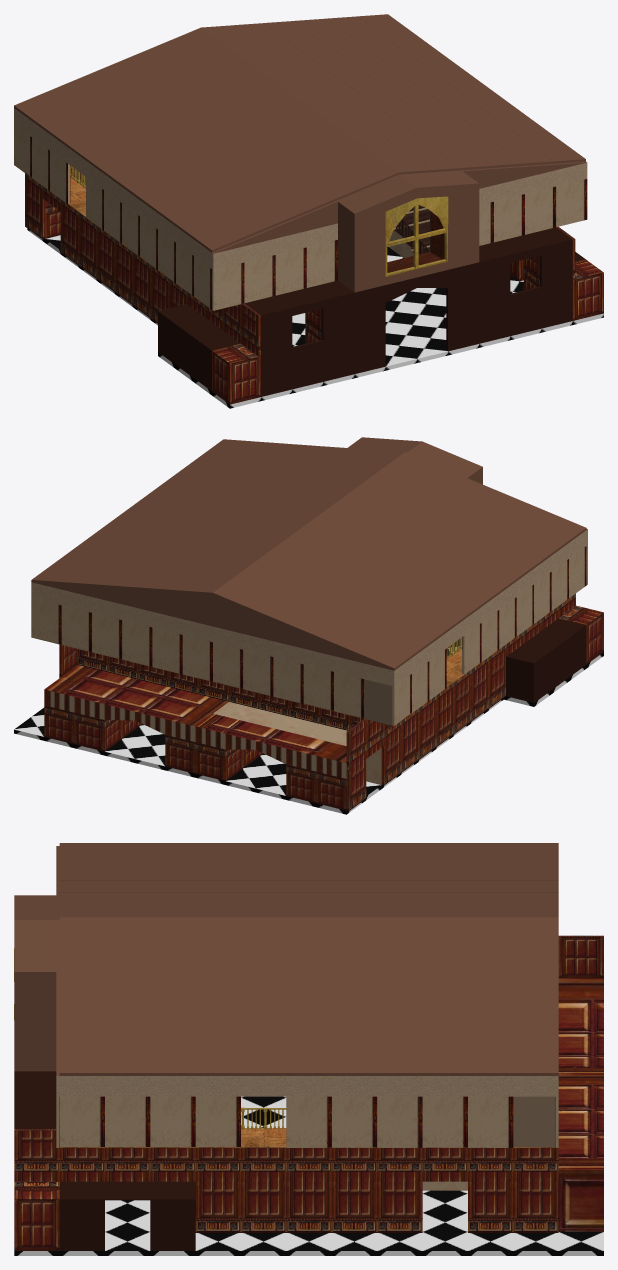
The model's file is HallMain.fbx.
3 views of the same model, one above another, from view 1: azimuth 30°, elevation 25°; view 2: azimuth 150°, elevation 25°; view 3: azimuth 270°, elevation 25° (orthographic). The views are drawn at different scales.
Parts seen in each view (by area): view 1: HallRoofLeft, HallRoofRight, HallWallF1WindowEntrance, HallWallB0WindowLeft, HallWallB0WindowRight, HallFloorTiles, HallWallEntrance, HallWallF1Front, HallWallF1Left_1, HallWallF1Front.001, HallWallB0Left, HallWallB0BreakLeft (+13 smaller); view 2: HallRoofLeft, HallRoofRight, HallWallF1Back_2, HallWallB0TunnelRight.002, HallWallB0TunnelLeft, HallWallF3RooftopBack, HallWallF2Back_2, HallFloorTiles, HallWallB0Left, HallWallF1Left_1, HallWallB0BreakLeft, HallWallB1Back (+10 smaller); view 3: HallRoofRight, HallRoofLeft, HallFloorTiles, HallWallB1Right, HallWallB0Right, HallWallF1Right_2, HallWallF2Right_2, HallWallF1Right_2.001, HallWallF1WindowEntrance, HallWallB0BreakRight, HallWallB0TunnelRight.002, HallWallB1Right.001 (+8 smaller).
Boxes of the visible parts, left/top/right/bottom form: HallRoofLeft: left=14, top=27, right=398, bottom=252; HallRoofRight: left=201, top=14, right=585, bottom=174; HallWallF1WindowEntrance: left=337, top=170, right=479, bottom=292; HallWallB0WindowLeft: left=245, top=280, right=354, bottom=396; HallWallB0WindowRight: left=479, top=227, right=572, bottom=343; HallFloorTiles: left=27, top=228, right=603, bottom=400; HallWallEntrance: left=354, top=262, right=479, bottom=373; HallWallF1Front: left=212, top=240, right=337, bottom=310; HallWallF1Left_1: left=86, top=177, right=211, bottom=309; HallWallF1Front.001: left=479, top=179, right=587, bottom=245; HallWallB0Left: left=60, top=212, right=186, bottom=323; HallWallB0BreakLeft: left=158, top=304, right=240, bottom=390; HallRoofLeft: left=213, top=452, right=586, bottom=670; HallRoofRight: left=31, top=439, right=404, bottom=594; HallWallF1Back_2: left=31, top=598, right=364, bottom=718; HallWallB0TunnelRight.002: left=44, top=677, right=212, bottom=773; HallWallB0TunnelLeft: left=195, top=713, right=346, bottom=810; HallWallF3RooftopBack: left=32, top=582, right=393, bottom=670; HallWallF2Back_2: left=31, top=583, right=395, bottom=686; HallFloorTiles: left=14, top=639, right=503, bottom=814; HallWallB0Left: left=381, top=657, right=505, bottom=785; HallWallF1Left_1: left=462, top=546, right=586, bottom=674; HallWallB0BreakLeft: left=506, top=618, right=586, bottom=702; HallWallB1Back: left=78, top=649, right=363, bottom=730; HallRoofRight: left=59, top=917, right=558, bottom=1075; HallRoofLeft: left=59, top=843, right=558, bottom=917; HallFloorTiles: left=14, top=1096, right=603, bottom=1255; HallWallB1Right: left=14, top=1129, right=558, bottom=1171; HallWallB0Right: left=195, top=1181, right=422, bottom=1232; HallWallF1Right_2: left=286, top=1096, right=513, bottom=1147; HallWallF2Right_2: left=59, top=1076, right=555, bottom=1096; HallWallF1Right_2.001: left=59, top=1096, right=240, bottom=1146; HallWallF1WindowEntrance: left=14, top=895, right=59, bottom=1071; HallWallB0BreakRight: left=59, top=1181, right=195, bottom=1250; HallWallB0TunnelRight.002: left=558, top=1074, right=603, bottom=1231; HallWallB1Right.001: left=14, top=1171, right=558, bottom=1181.
Size of the model in its own units: 2400 by 1088 by 2601.
